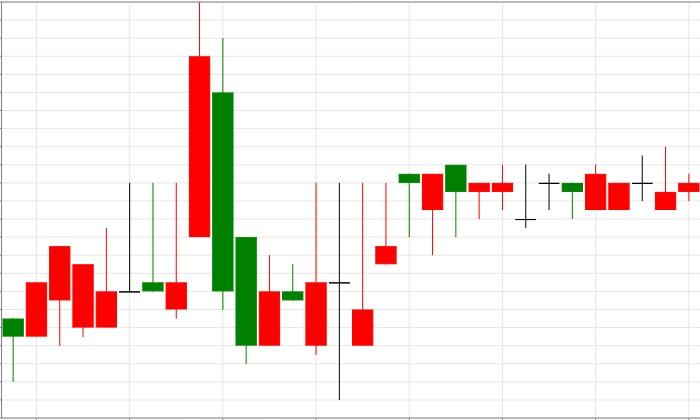inverse_hammer_rise: (188, 1, 374, 400)
